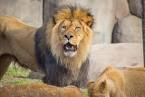lion: (1, 7, 94, 86)
